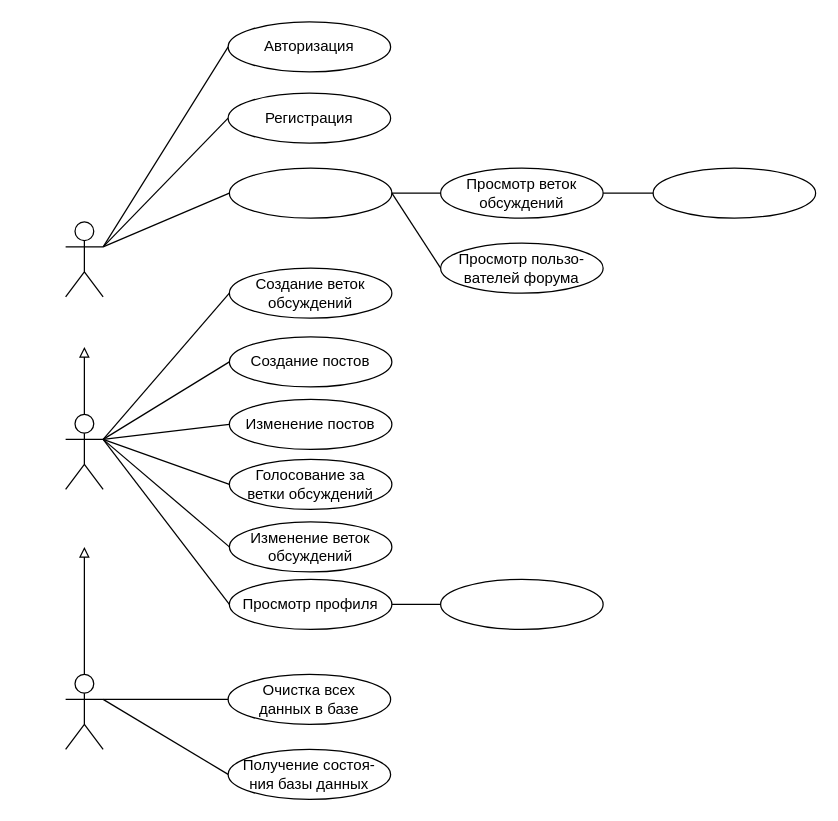
Image size: 838x821. Some labels were removed from this diagram. Here are the shapes that lost their labels. From the top down, the centre of each, then its label:
the point at 310,192: Просмотр форума
the point at 734,192: Просмотр постов
the point at 83,259: Обычный посетитель
the point at 83,451: Зарегистрирован- ный пользователь
the point at 521,603: Редактирование профиля
the point at 83,711: Администратор
